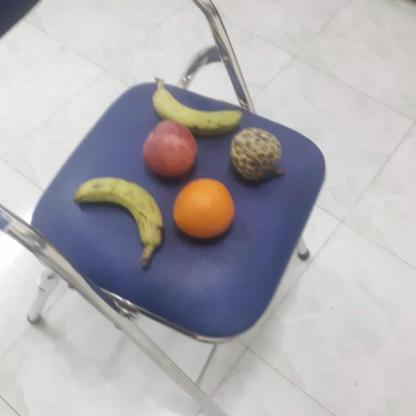annona: (228, 128, 284, 182)
apple: (140, 117, 200, 177)
banana: (73, 177, 165, 250), (148, 83, 245, 133)
orange: (172, 179, 236, 240)
